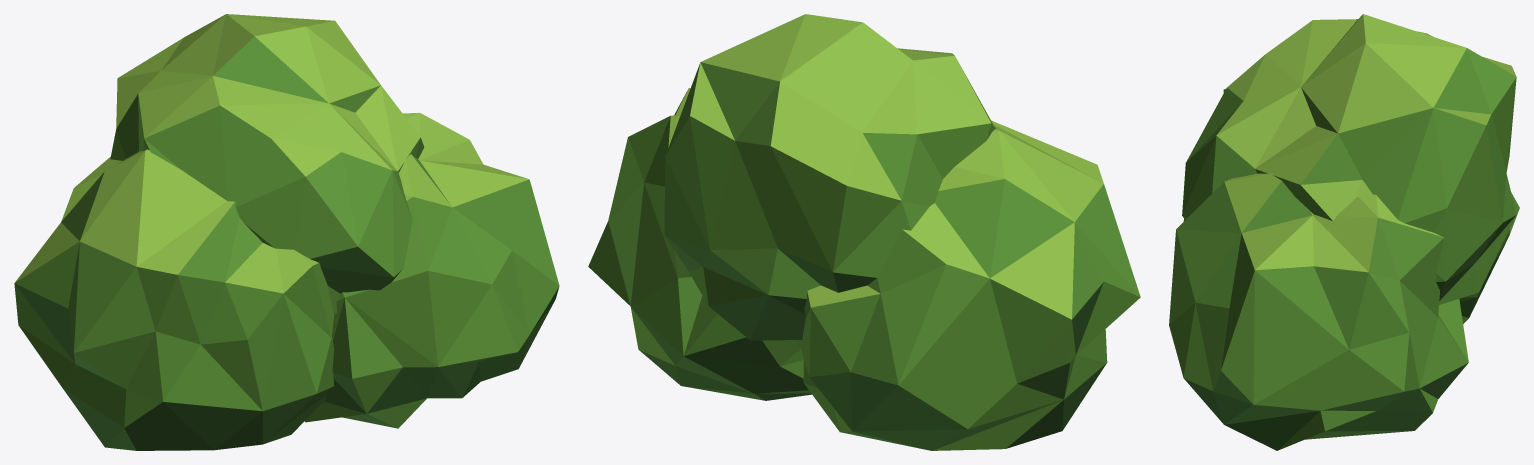
The model's file is Veg_Busch_A.fbx.
The picture shows the model from 3 angles, left to right: view 1: azimuth 30°, elevation 25°; view 2: azimuth 150°, elevation 25°; view 3: azimuth 270°, elevation 25°; orthographic projection. The views are drawn at different scales.
Visible parts, largest first — view 1: Veg_Busch_A; view 2: Veg_Busch_A; view 3: Veg_Busch_A.
Part boxes in pixels (<box>): Veg_Busch_A: <box>14,14,559,450</box>; Veg_Busch_A: <box>588,14,1140,450</box>; Veg_Busch_A: <box>1169,14,1519,450</box>.
Size of the model in its own units: 1.5 by 1.1 by 1.
